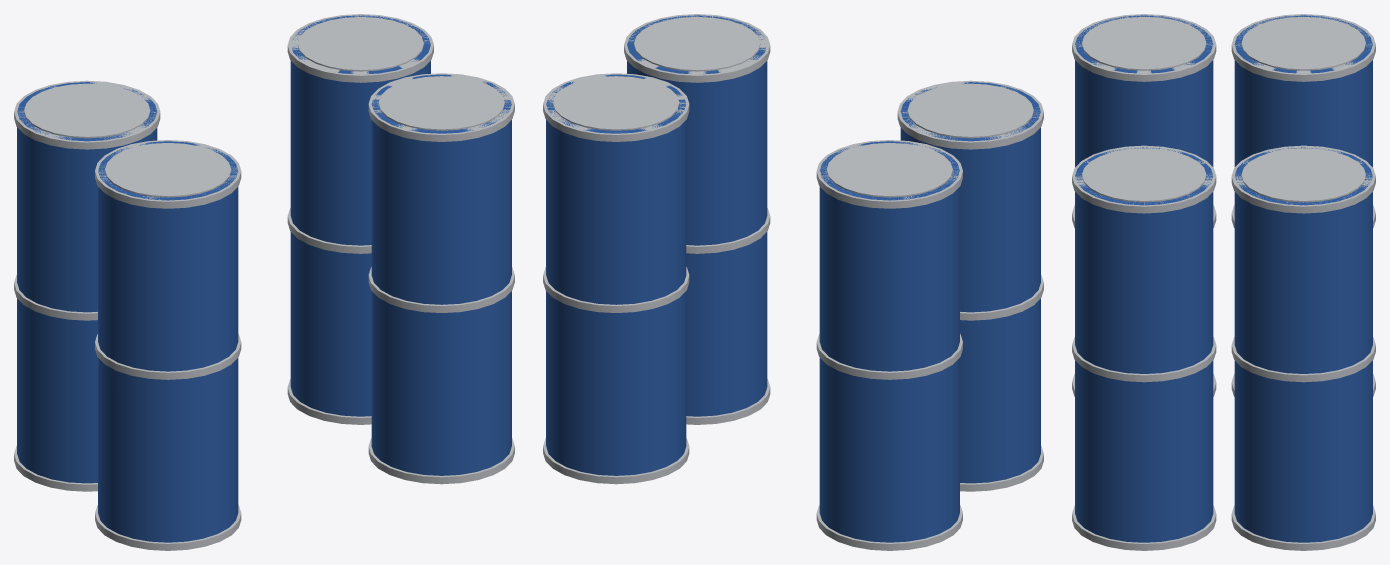
Rendered from load-eur-drums.glb.
3 renders of one model, left to right at view 1: azimuth 30°, elevation 25°; view 2: azimuth 150°, elevation 25°; view 3: azimuth 270°, elevation 25°, orthographic.
Visible parts, largest first — view 1: load-drums; view 2: load-drums; view 3: load-drums.
Boxes of the visible parts, box(x1,y1,x2,y2) form: load-drums: box(14, 14, 514, 550); load-drums: box(543, 14, 1043, 550); load-drums: box(1072, 14, 1375, 550).
Size of the model in its own units: 1.2 by 1 by 0.8.
